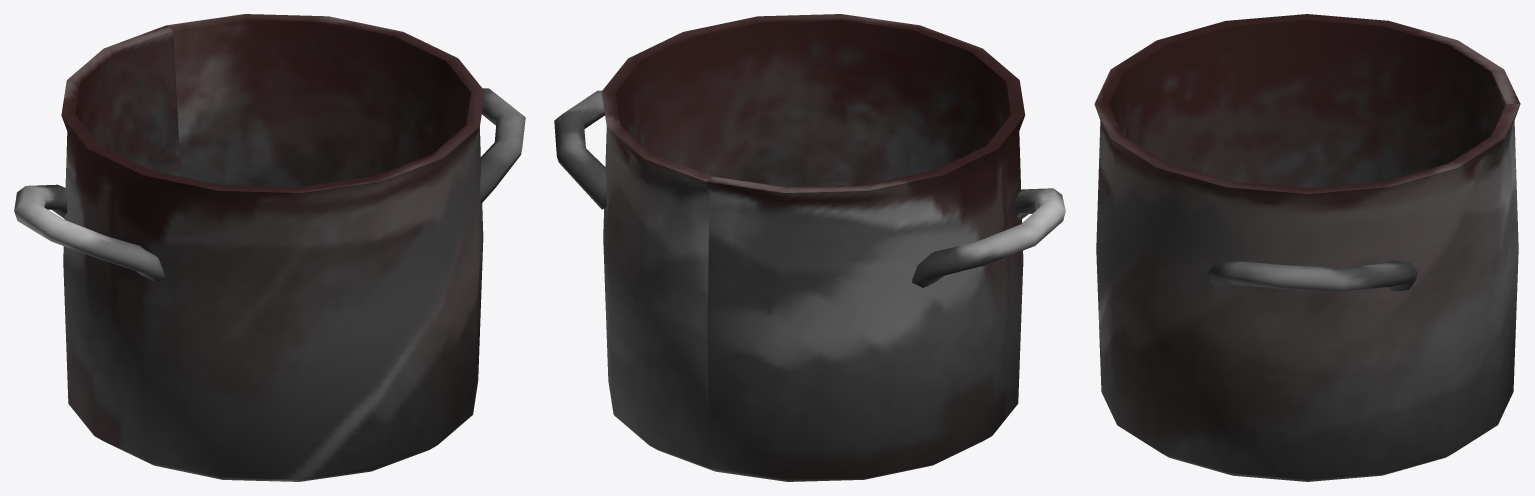
File: Pot_Asset.fbx
3 views of the same model, side by side, from view 1: azimuth 30°, elevation 25°; view 2: azimuth 150°, elevation 25°; view 3: azimuth 270°, elevation 25° (orthographic).
Parts seen in each view (by area): view 1: Pot; view 2: Pot; view 3: Pot.
Part boxes in pixels (left/top/right/bottom): Pot: left=14, top=14, right=525, bottom=481; Pot: left=554, top=14, right=1065, bottom=481; Pot: left=1094, top=14, right=1520, bottom=481.
Size of the model in its own units: 37 by 28.46 by 21.76.
1 material, 1 textured.
